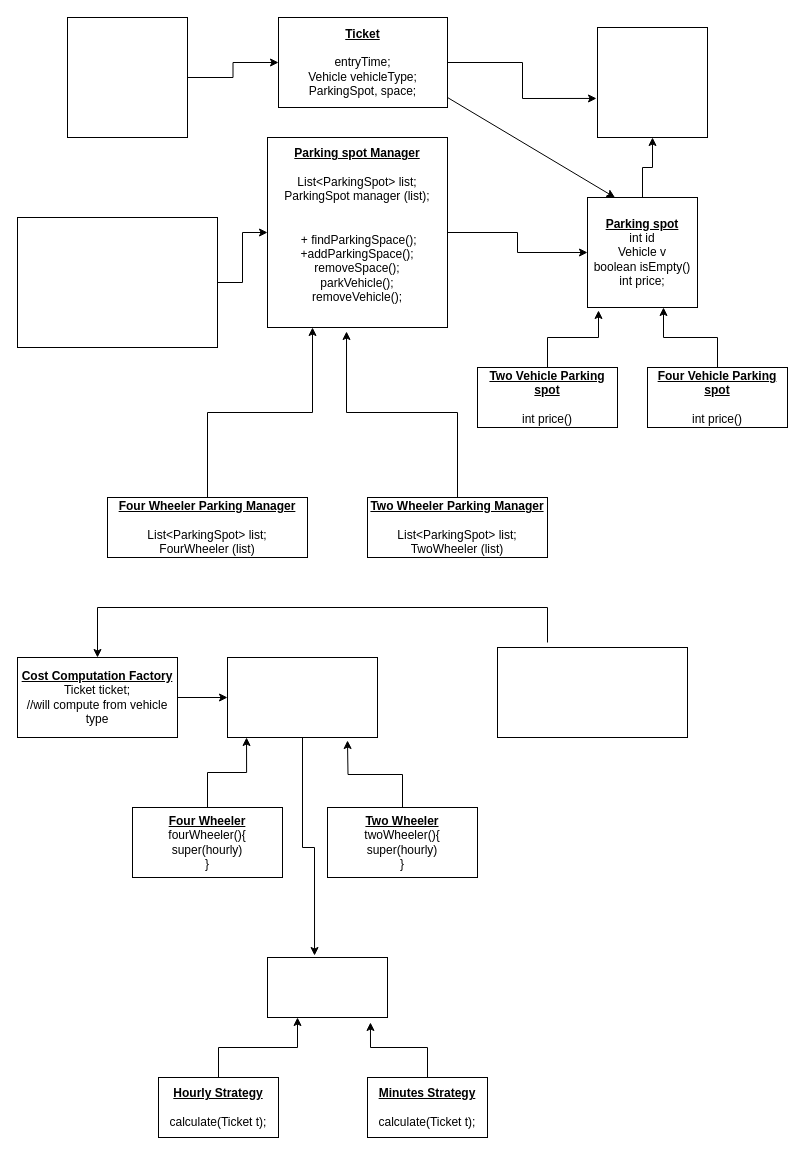
Some shapes in this 805 by 1155 pixel diagram are drawn without their labels. The shapes that lost their labels are listed below. From the top down, each one's centre as x and y in pixels, then its label:
At pixel 127 77: "EntranceGate Ticket ticket; ParkingSpotFactory();".
At pixel 652 82: "Vehicle Vehicle number; Vehicle type;".
At pixel 117 282: "Parking Spot Manager Factory +getParkingSpotManger(Vehicle)".
At pixel 302 697: "Cost Computation PriceStrategy object; calculatePrice();".
At pixel 592 692: "Exit Gate Ticket ticket; CostComputation object;".
At pixel 327 987: "Price Strategy int calculatePrice();".
